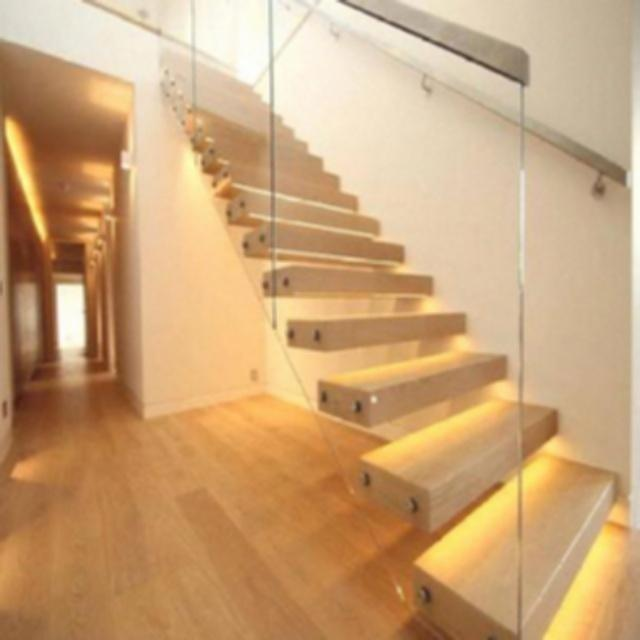stair: (153, 3, 639, 640)
